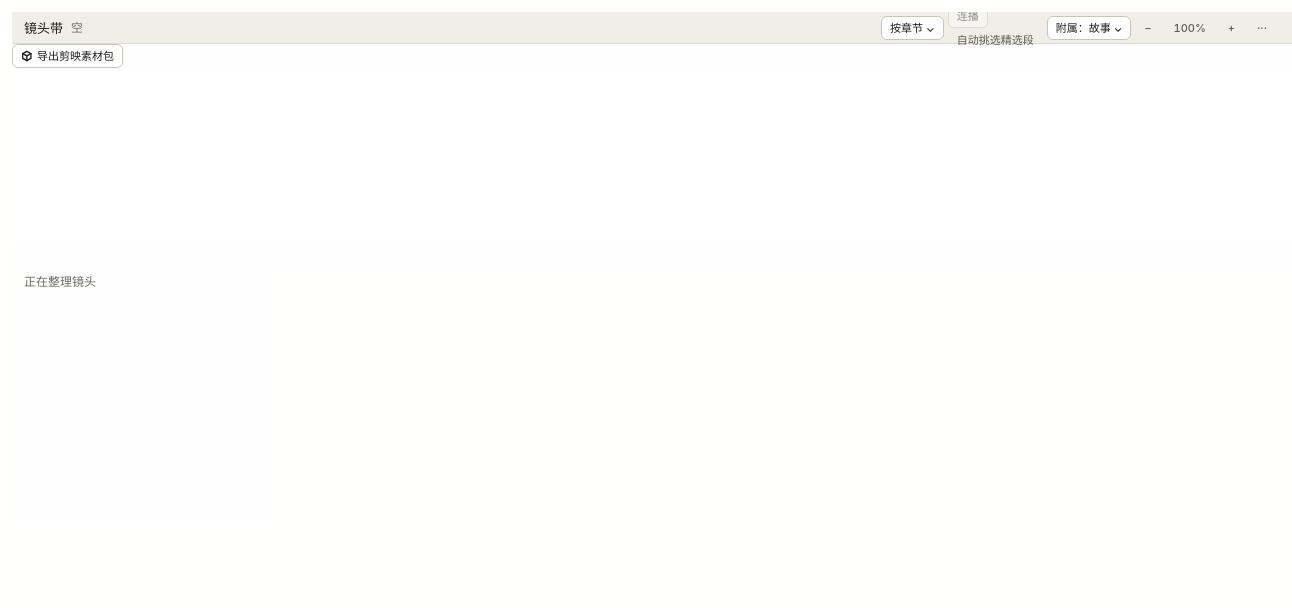
附属面板(R9 套件皮) › 「音乐」面板头是套件栏标题条,没有英文 kicker
Click the button "附属：故事 ⌄" at (1089, 28), box [1047,16,1131,40]
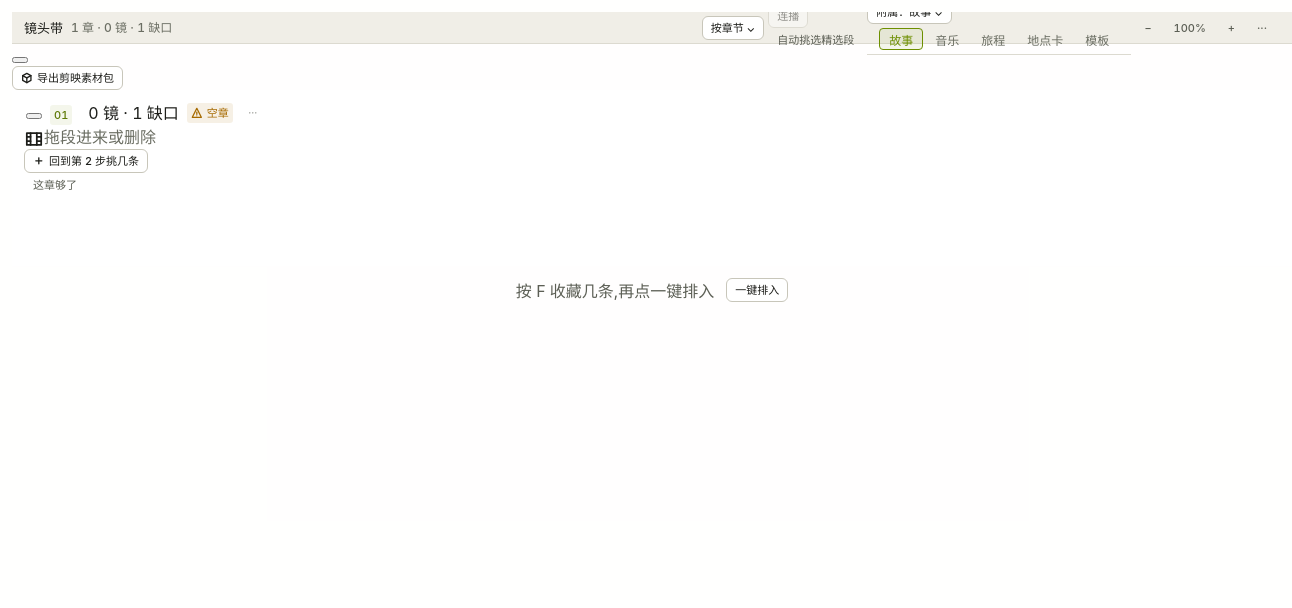
Check: the element named "镜头带附属视图" is shown, box [867,24,1131,55]
Click the tab "音乐" at (947, 39), box [925,28,969,50]
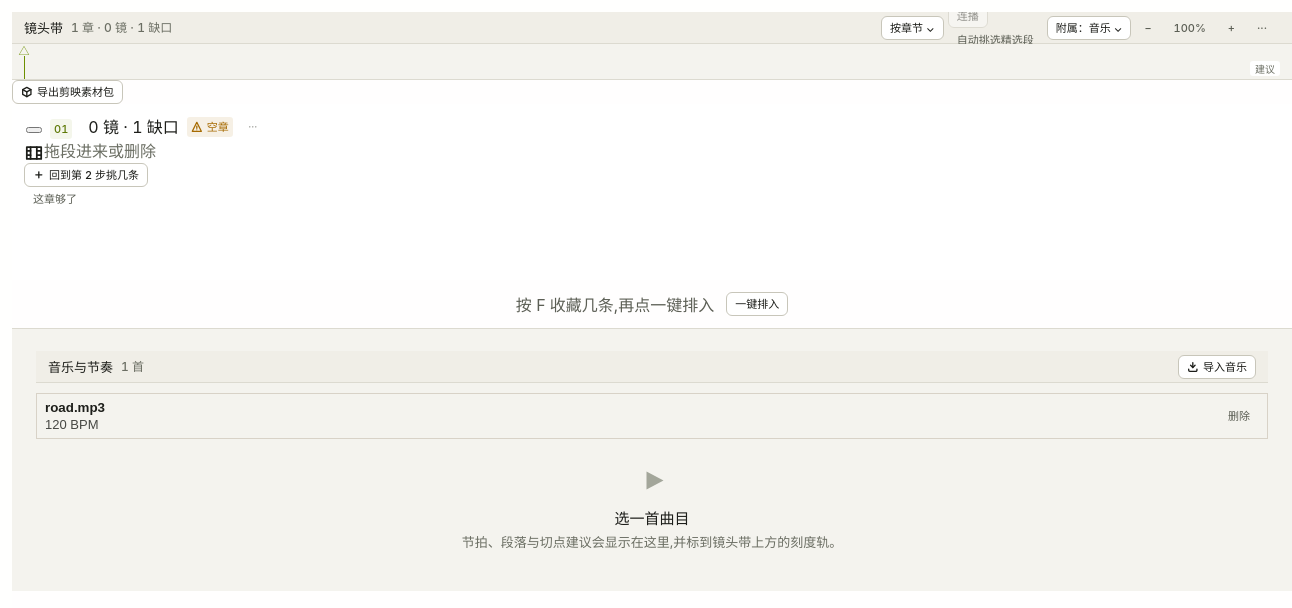
Check: the text "音乐与节奏" is shown, box [48,358,113,376]
